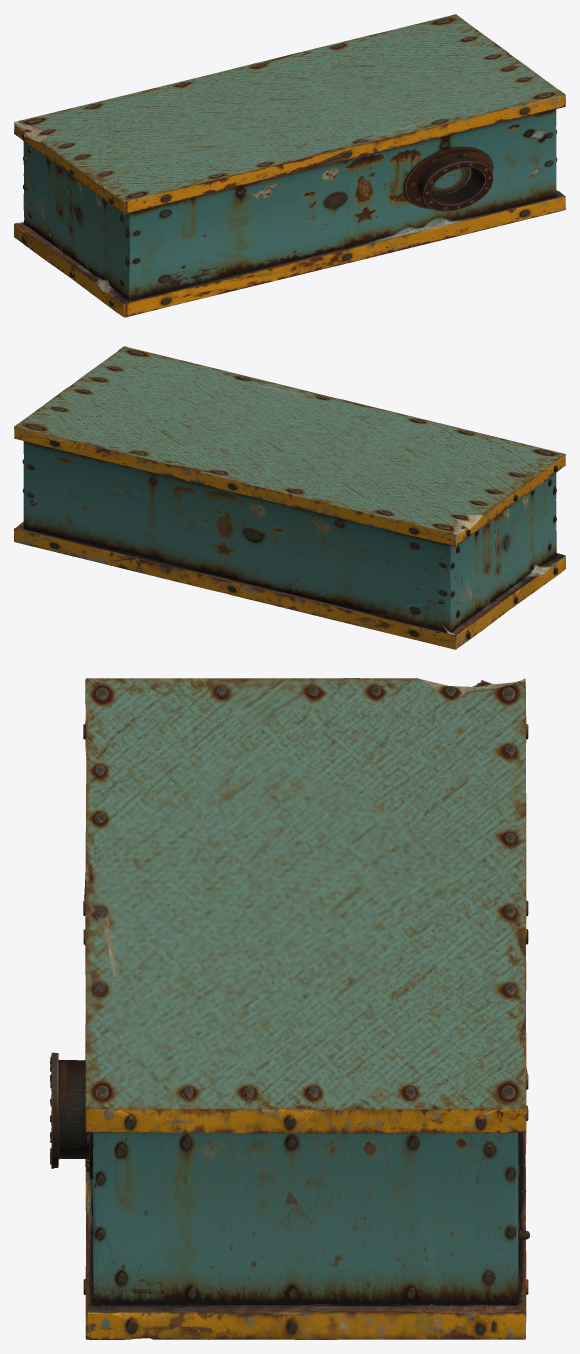
File: basamento_vasca.glb
3 views of the same model, one above another, from view 1: azimuth 30°, elevation 25°; view 2: azimuth 150°, elevation 25°; view 3: azimuth 270°, elevation 25° (orthographic). The views are drawn at different scales.
Parts seen in each view (by area): view 1: basamento_vasca; view 2: basamento_vasca; view 3: basamento_vasca.
Part boxes in pixels (x1,y1,x2,y2): basamento_vasca: [14, 14, 565, 317]; basamento_vasca: [14, 346, 565, 649]; basamento_vasca: [50, 678, 529, 1339].
Bounding box in the file's own units: 2 × 0.5 × 0.93.
1 material, 1 textured.
